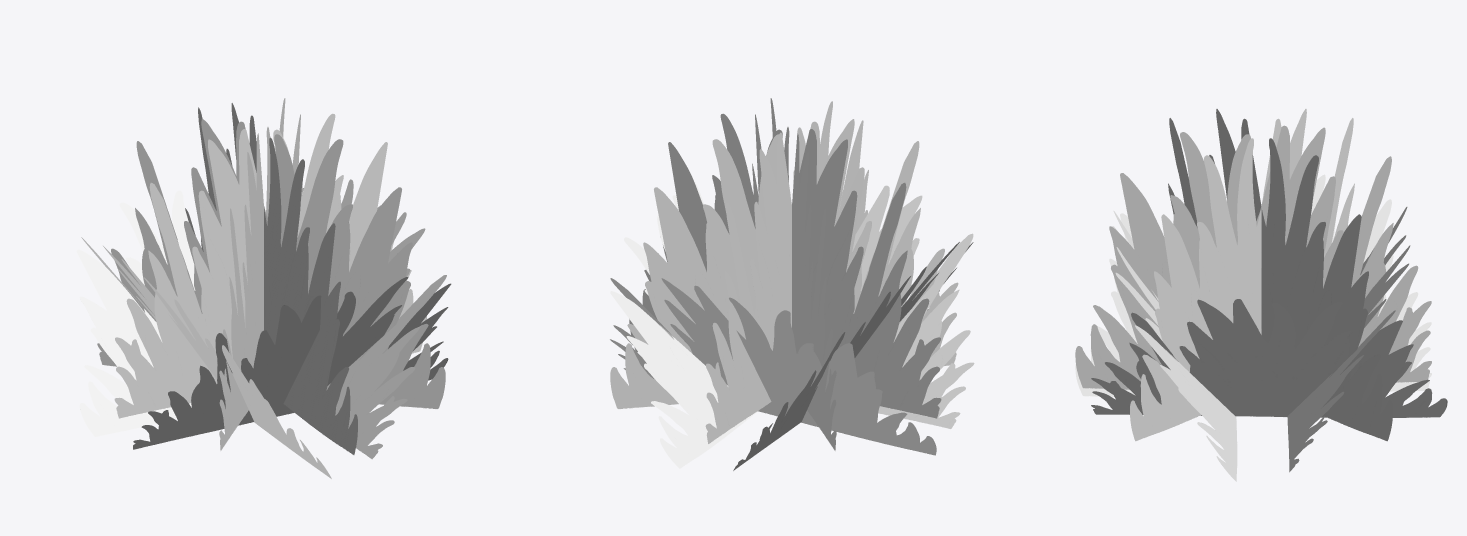
The model's file is grasscard_1_0.fbx.
3 views of the same model, side by side, from view 1: azimuth 30°, elevation 25°; view 2: azimuth 150°, elevation 25°; view 3: azimuth 270°, elevation 25° (orthographic).
Visible parts, largest first — view 1: grasscards_1; view 2: grasscards_1; view 3: grasscards_1.
Part boxes in pixels (x1,y1,x2,y2): grasscards_1: [76, 98, 451, 478]; grasscards_1: [610, 98, 974, 470]; grasscards_1: [1075, 109, 1447, 481].
Bounding box in the file's own units: 100 × 100 × 100.
